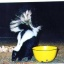skunk: (9, 7, 34, 59)
